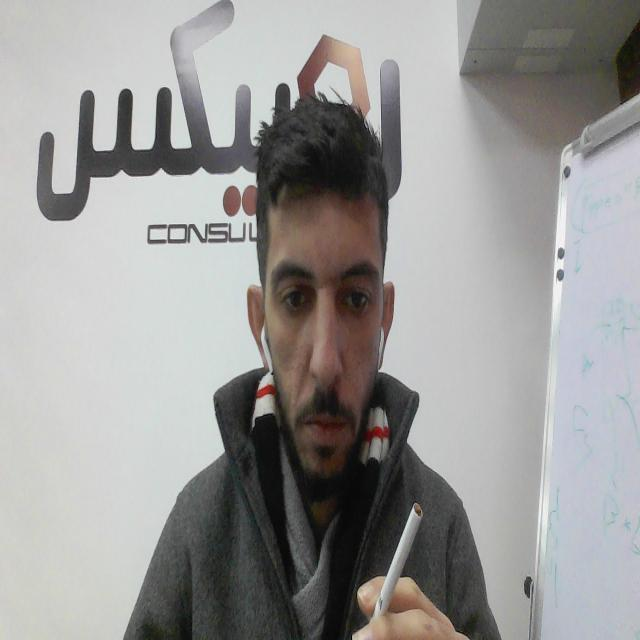face_no_mask: (246, 183, 392, 486)
